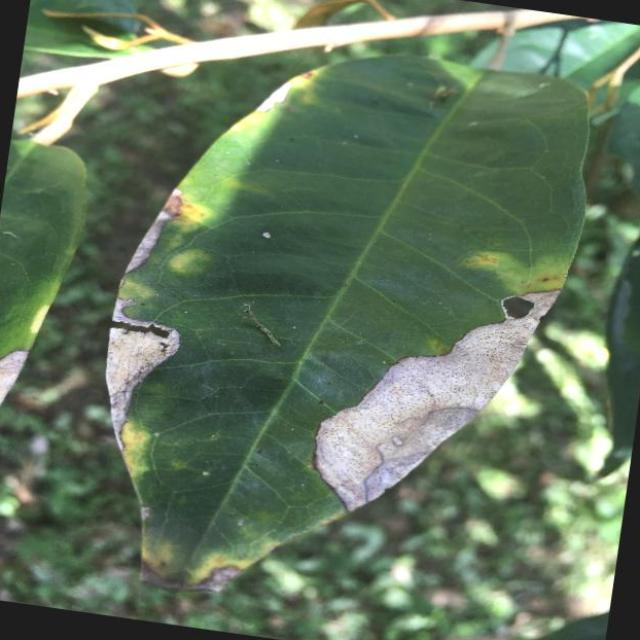Leaf Blight: (62, 8, 618, 640)
